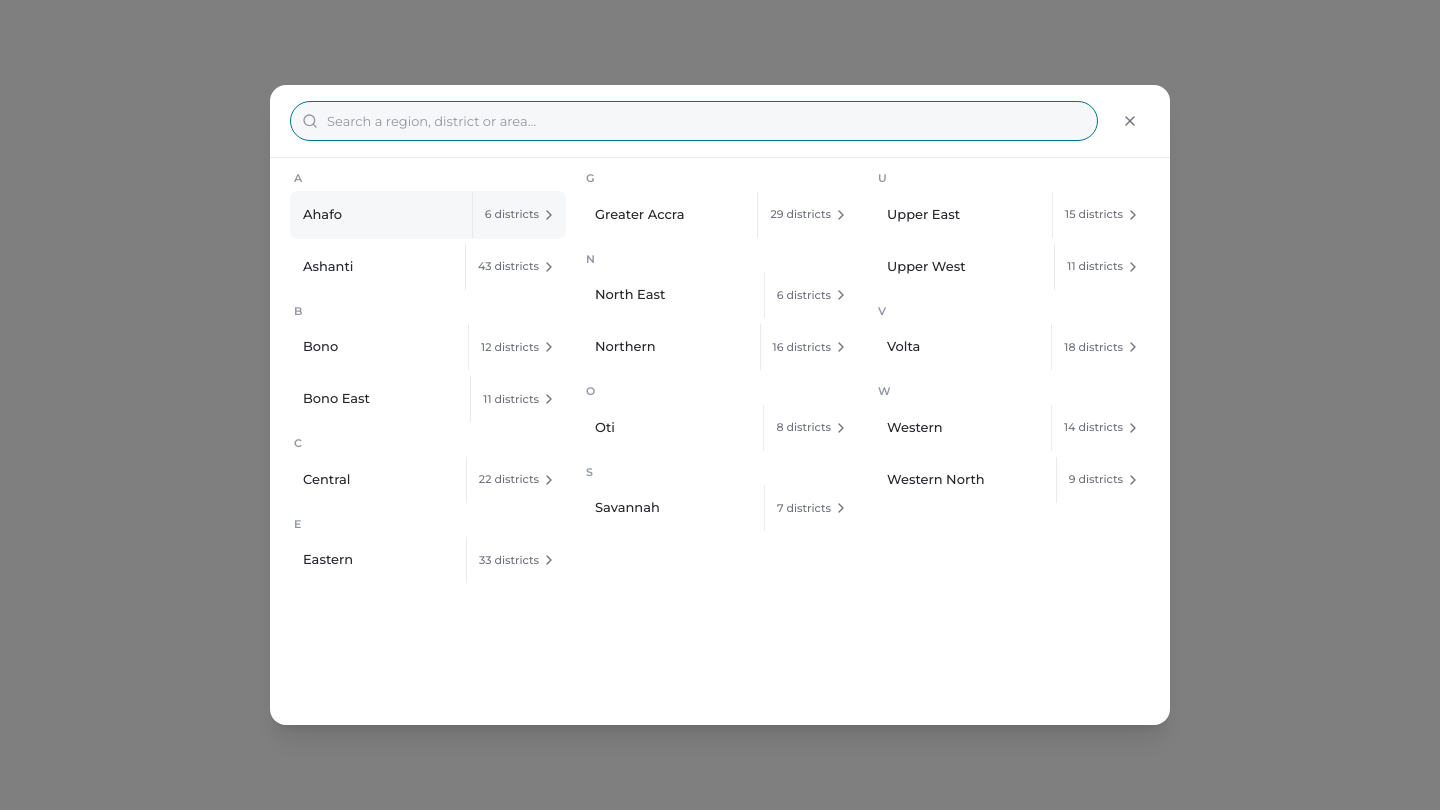
Scenario: LocationPicker — browsing inside a place › the breadcrumb and Back both return to the regions
Click the button with test id "location-browse-GH07" at (807, 214), box [757,192,857,238]
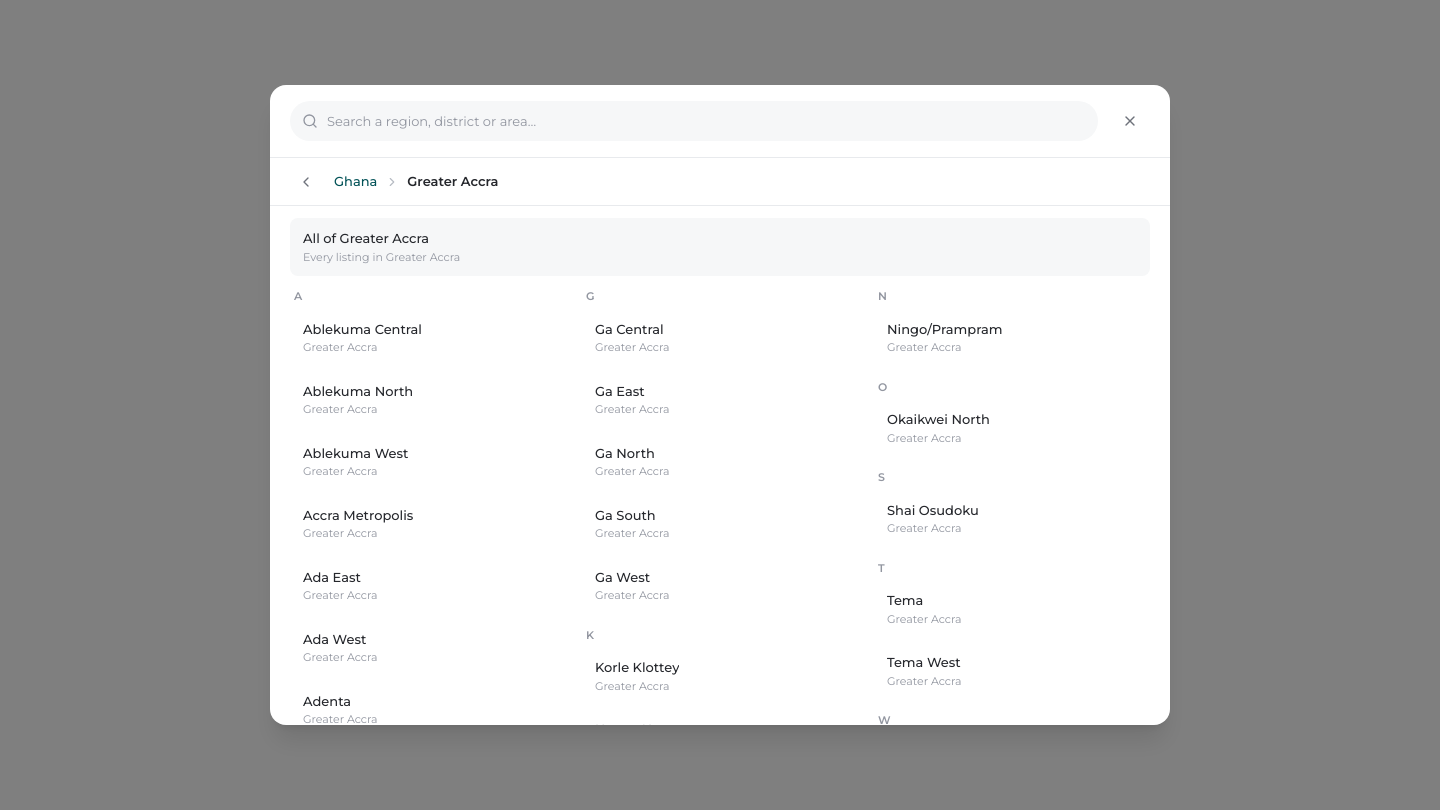
Click the button "Ghana" at (356, 182), box [328,162,383,202]
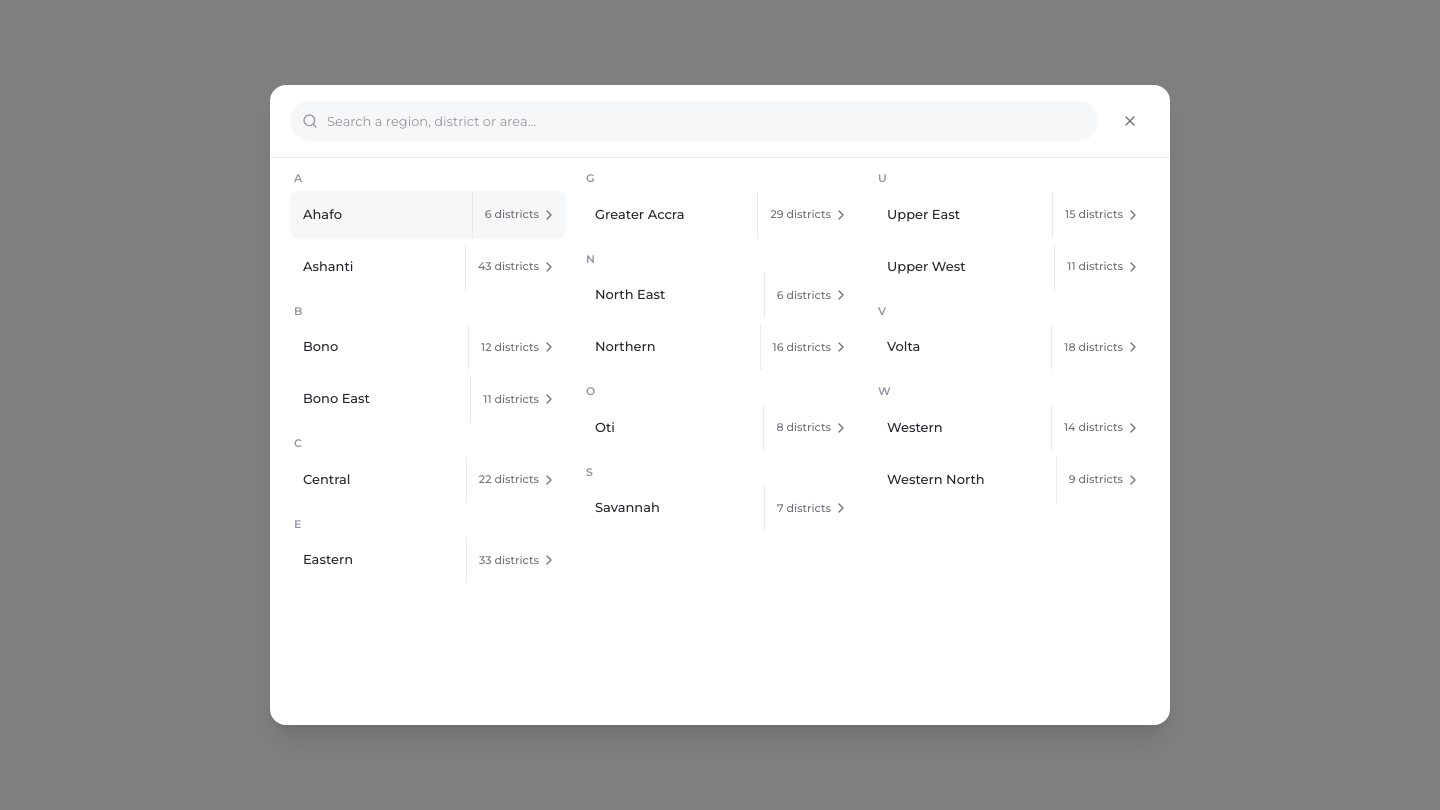
Expected: the number of options is 16
Click the button with test id "location-browse-GH07" at (807, 214), box [757,192,857,238]
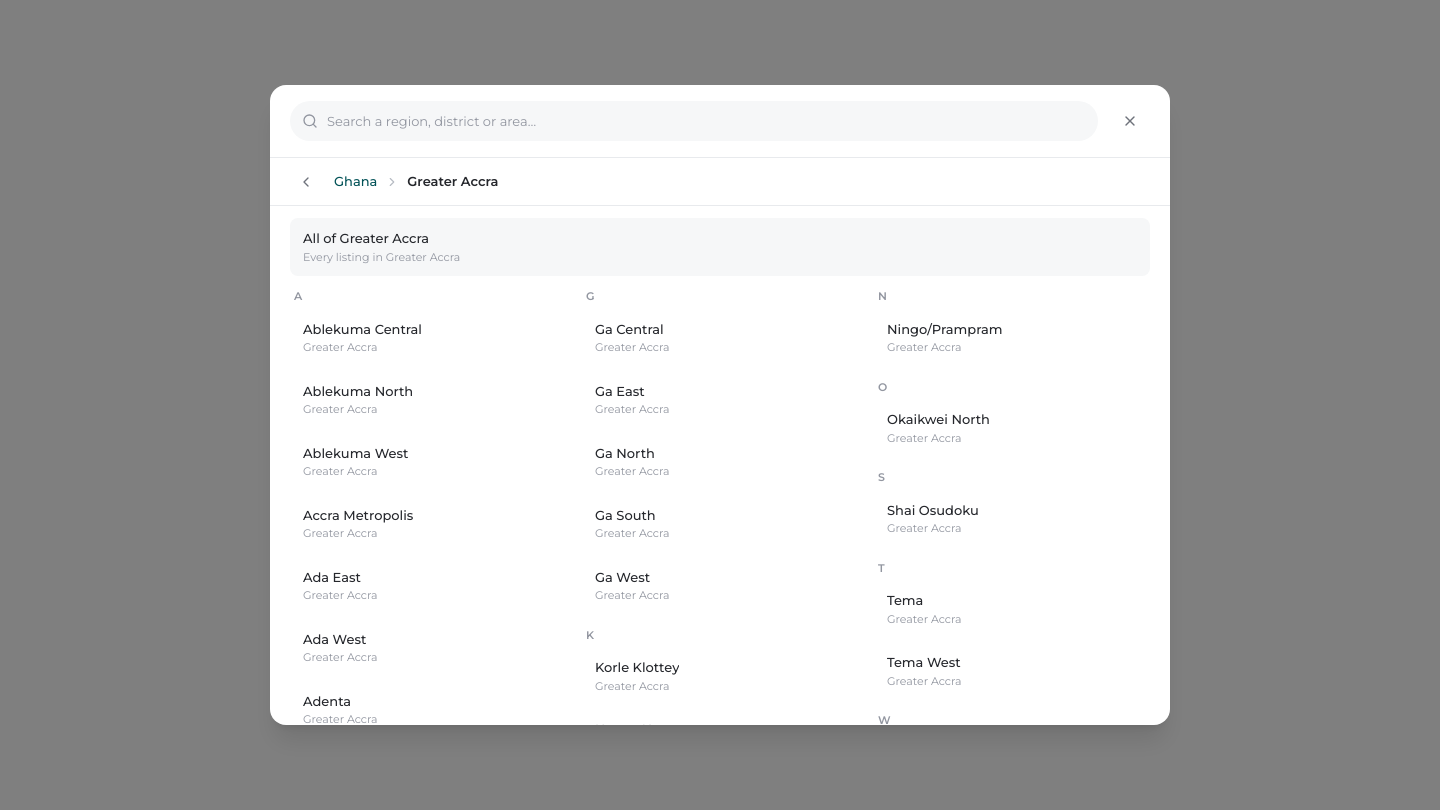
Click the button named "Back" at (306, 182), box [286,162,326,202]
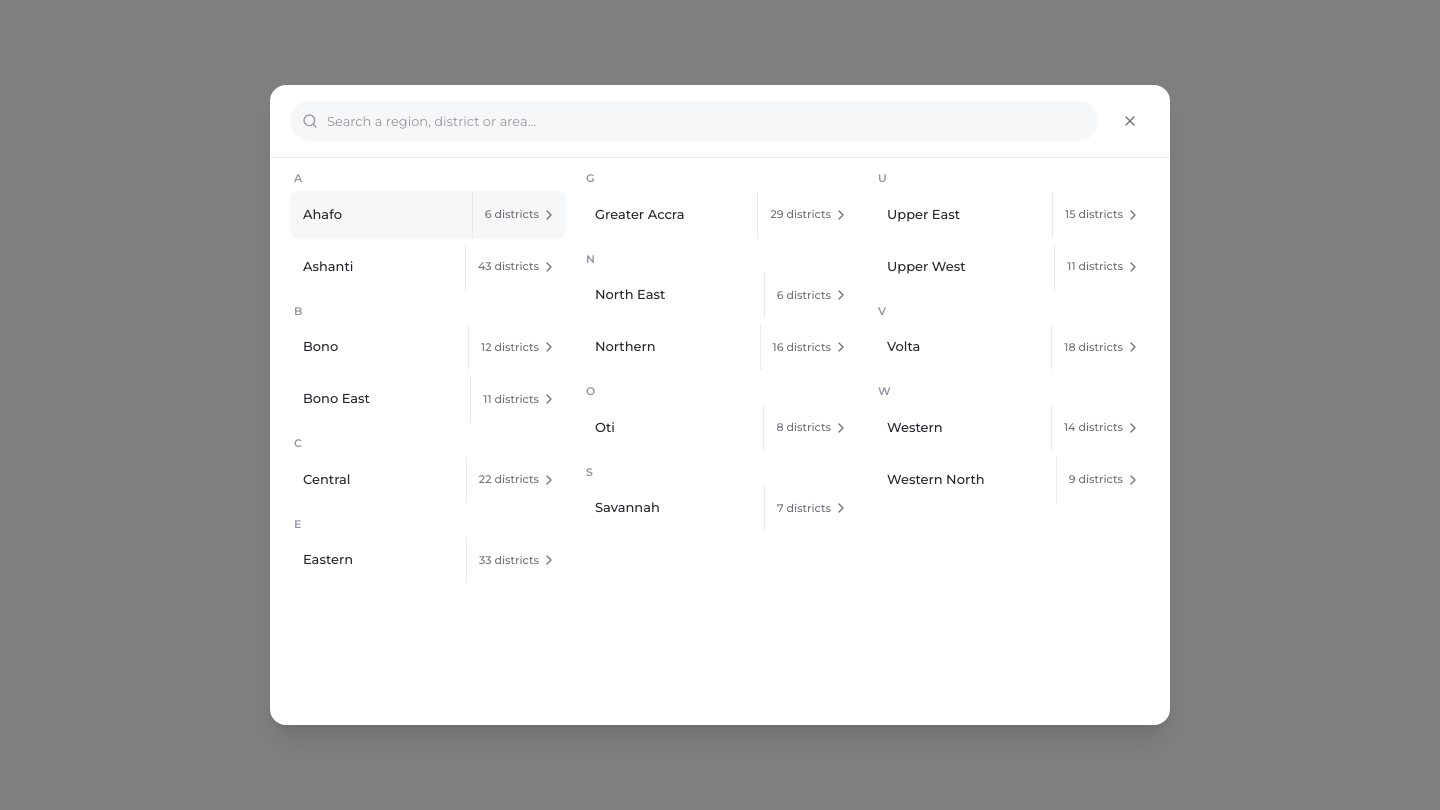
Expected: the number of options is 16
